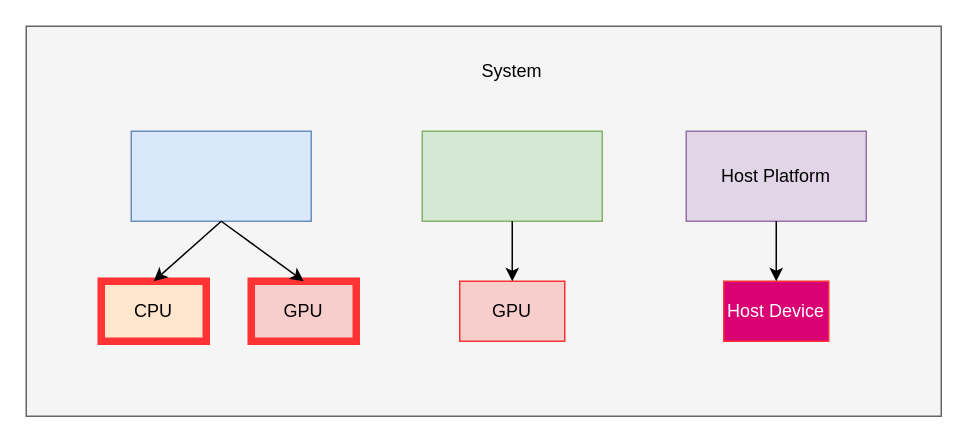
Some shapes in this 968 by 443 pixel diagram are drawn without their labels. The shapes that lost their labels are listed below. From the top down, each one's centre as x and y in pixels, then its label:
the point at 220,175: Intel OpenCL
the point at 511,175: Nvidia PTX
